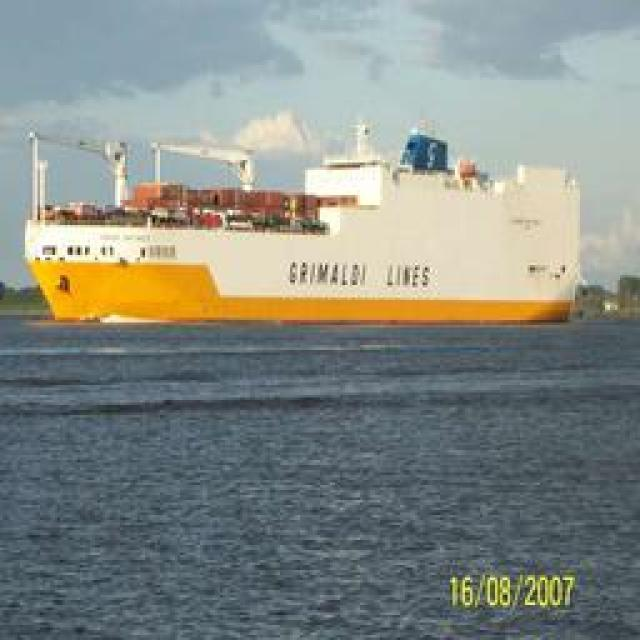CIV_Ship: (32, 125, 580, 330)
